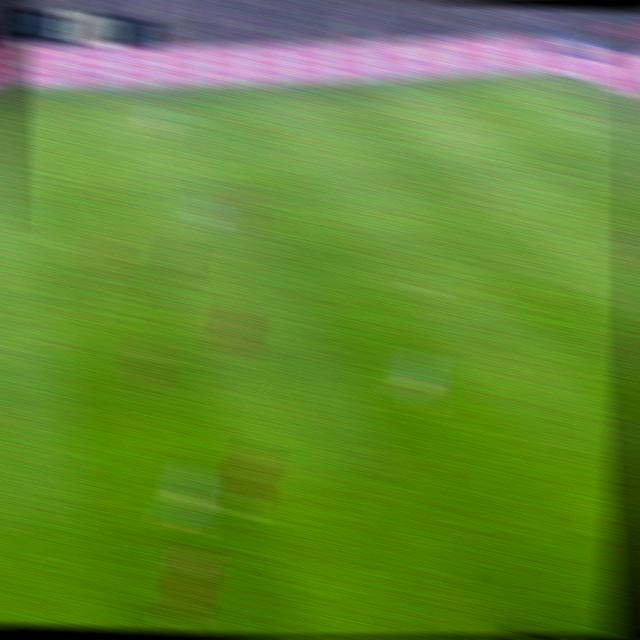bigarea_top_inner: (409, 127, 435, 147)
bigarea_top_outter: (611, 114, 634, 127)
bottom_arc_area_intersection: (580, 279, 607, 299)
smallarea_top_inner: (618, 165, 640, 181)
top_arc_area_intersection: (477, 185, 503, 205)
